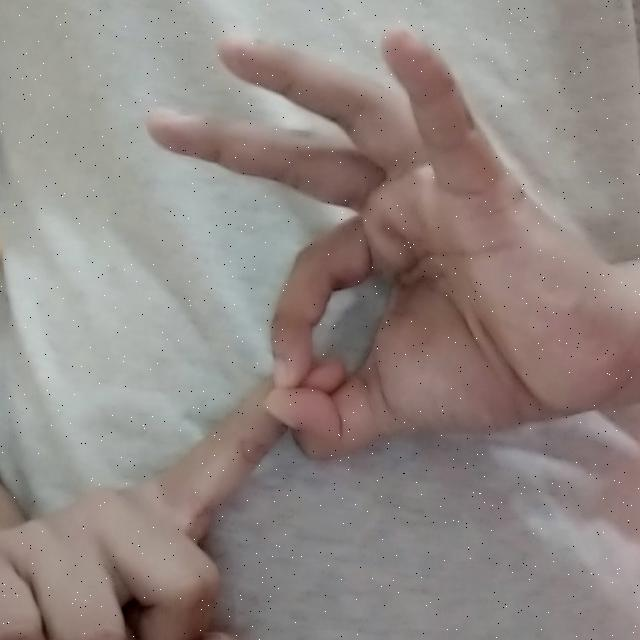Q: (58, 19, 613, 618)
